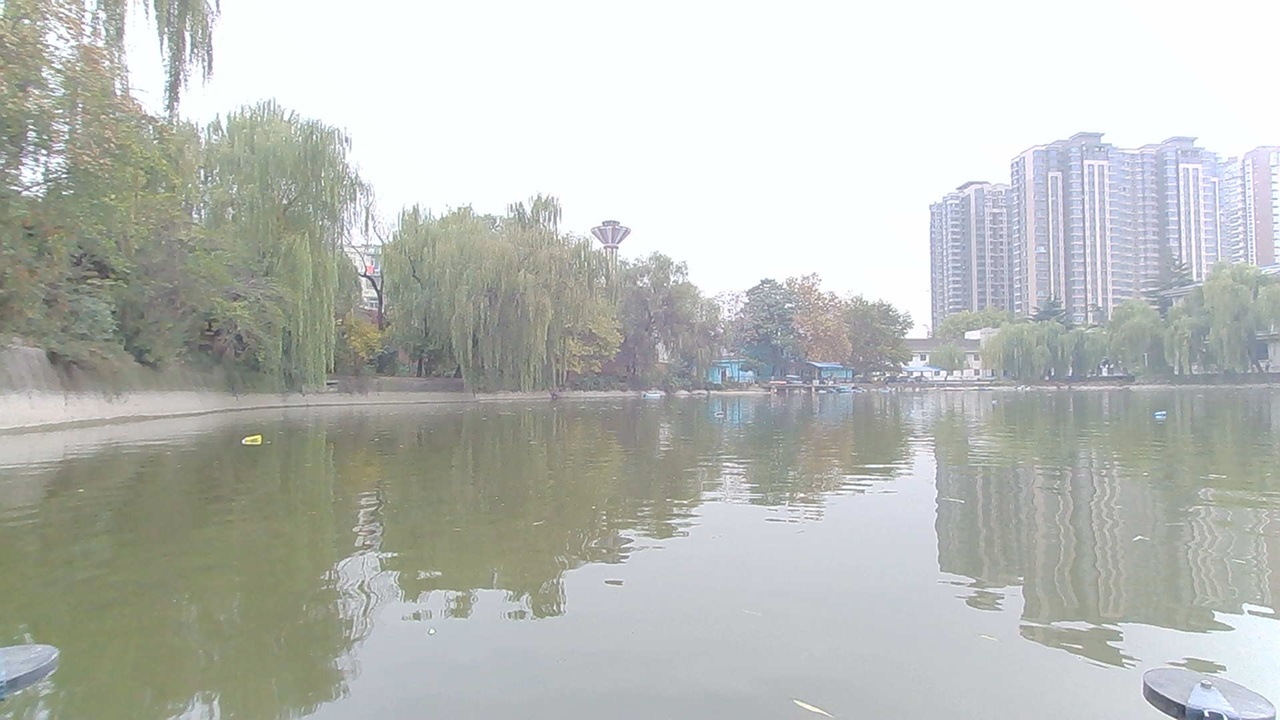bottle: (239, 429, 273, 452), (1146, 402, 1177, 425), (708, 411, 737, 426)
